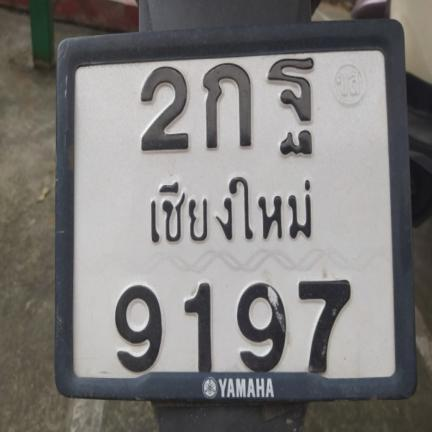1: (174, 281, 217, 375)
2: (131, 65, 196, 152)
7: (295, 275, 352, 375)
9: (107, 279, 168, 377), (231, 278, 291, 373)
A01: (196, 62, 255, 150)
A16: (261, 55, 327, 158)
CMI: (134, 166, 322, 251)
